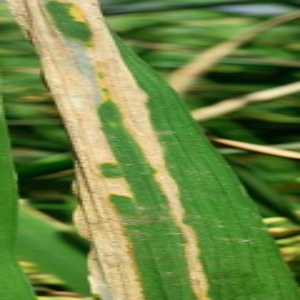Bacterial_Blight: (51, 2, 252, 300)
